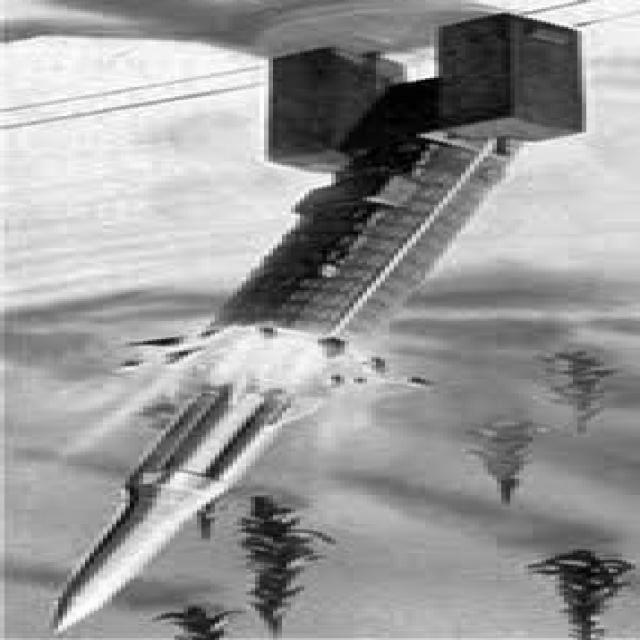Missile: (0, 375, 325, 640)
